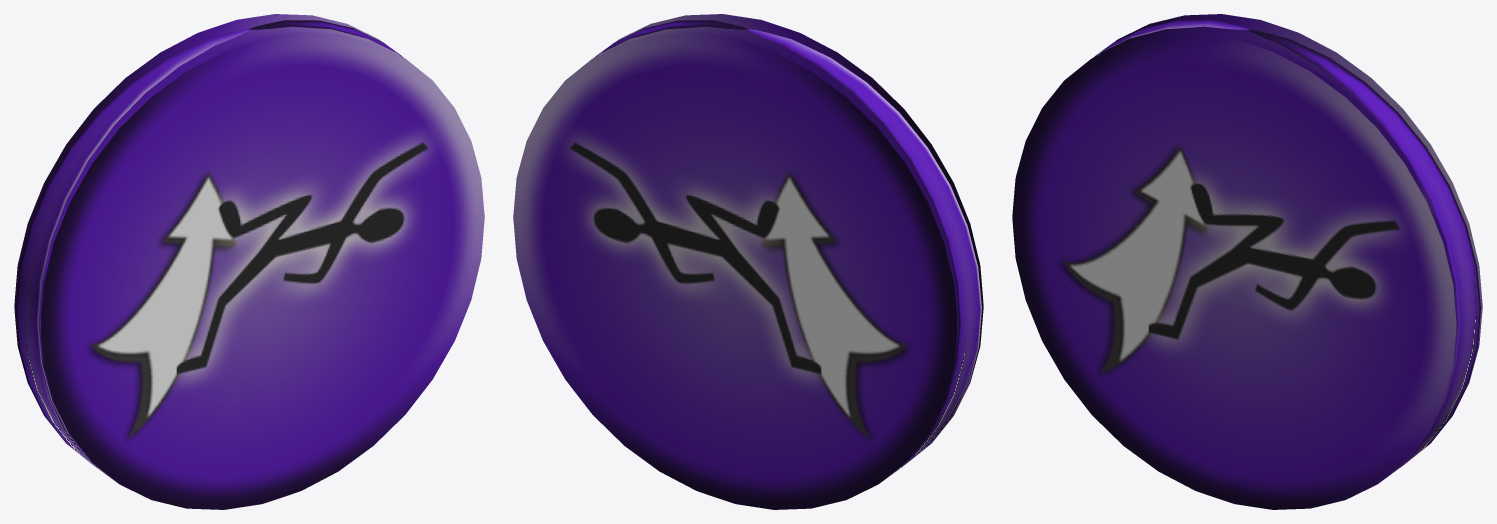
File: throw_icon.FBX
3 renders of one model, left to right at view 1: azimuth 30°, elevation 25°; view 2: azimuth 150°, elevation 25°; view 3: azimuth 330°, elevation 25°, orthographic.
Visible parts, largest first — view 1: Cylinder001; view 2: Cylinder001; view 3: Cylinder001.
Boxes of the visible parts, x1,y1,x2,y2 form: Cylinder001: [14, 14, 484, 509]; Cylinder001: [513, 14, 983, 509]; Cylinder001: [1012, 14, 1482, 509].
Bounding box in the file's own units: 975 × 975 × 98.92.
1 material, 1 textured.
